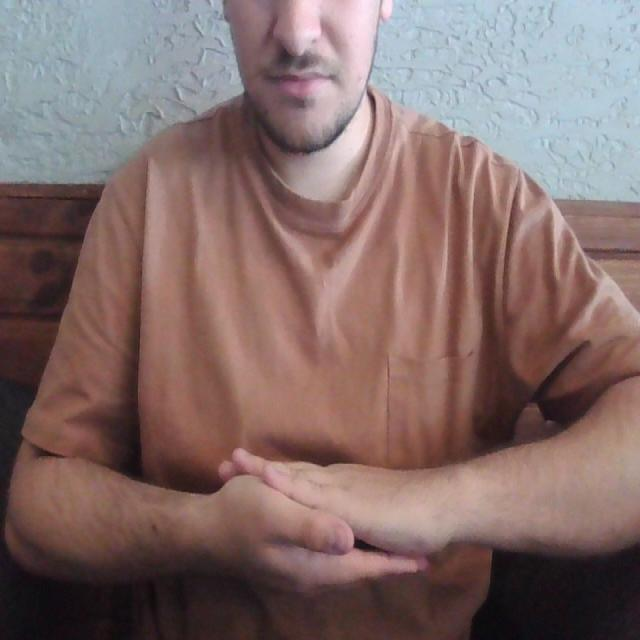Arkadas: (95, 431, 591, 596)
